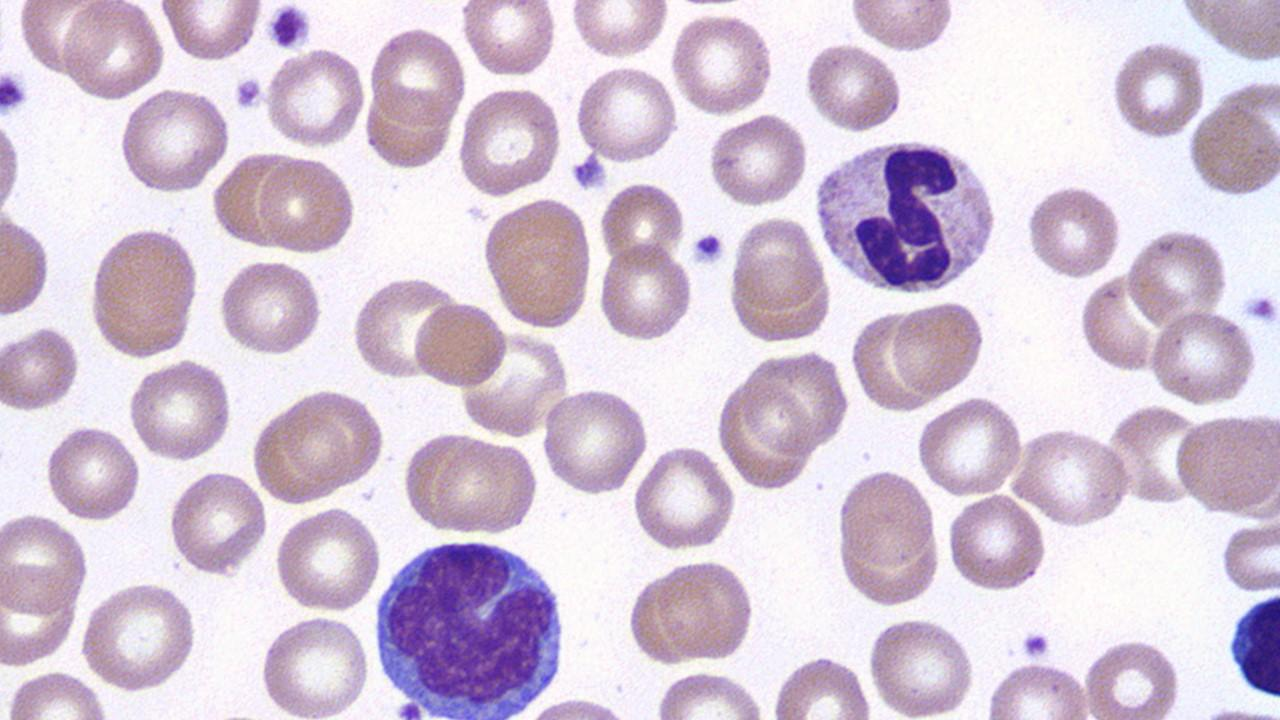Platelets: (266, 1, 314, 53), (1241, 289, 1279, 328), (570, 153, 608, 192), (0, 69, 29, 116), (690, 230, 726, 267), (234, 74, 263, 112), (393, 698, 425, 718)
RBC: (86, 223, 202, 362), (479, 195, 595, 332), (78, 580, 199, 694), (118, 86, 234, 196), (1010, 425, 1133, 528), (255, 612, 374, 718), (540, 384, 652, 496), (457, 83, 563, 199), (272, 505, 383, 614), (632, 442, 738, 554), (914, 392, 1025, 498), (1172, 409, 1280, 517), (742, 347, 852, 453), (866, 614, 978, 718), (1125, 225, 1233, 332), (125, 358, 236, 462), (669, 10, 776, 117), (350, 274, 456, 382), (1146, 308, 1260, 408), (165, 468, 270, 576), (214, 256, 325, 358), (720, 368, 818, 482), (654, 556, 758, 663), (263, 46, 370, 149), (944, 490, 1049, 594), (573, 63, 681, 164), (434, 435, 540, 536), (595, 238, 696, 344), (834, 467, 937, 570), (60, 2, 167, 101), (1106, 37, 1208, 140), (1104, 401, 1204, 506), (253, 155, 358, 255), (280, 388, 386, 487), (366, 26, 468, 128), (1021, 181, 1123, 282), (706, 110, 810, 208), (43, 424, 144, 523), (890, 296, 986, 399), (211, 147, 307, 248), (730, 212, 824, 314), (410, 298, 510, 392), (802, 42, 904, 134), (0, 511, 90, 615), (1184, 101, 1280, 198), (850, 307, 935, 414), (1079, 634, 1185, 718), (1077, 272, 1159, 376), (0, 564, 81, 666), (598, 177, 688, 267), (458, 0, 559, 78), (363, 90, 454, 172), (0, 322, 82, 412), (15, 0, 112, 76), (625, 568, 696, 668), (768, 652, 876, 716), (980, 658, 1094, 716), (158, 4, 266, 62), (0, 208, 54, 321), (652, 669, 770, 718), (566, 4, 670, 59), (848, 2, 958, 53), (1193, 0, 1279, 65), (1, 669, 115, 717), (1218, 514, 1280, 596), (0, 99, 24, 230)
WBC: (368, 530, 576, 716), (808, 129, 1004, 299), (1225, 580, 1280, 703)
